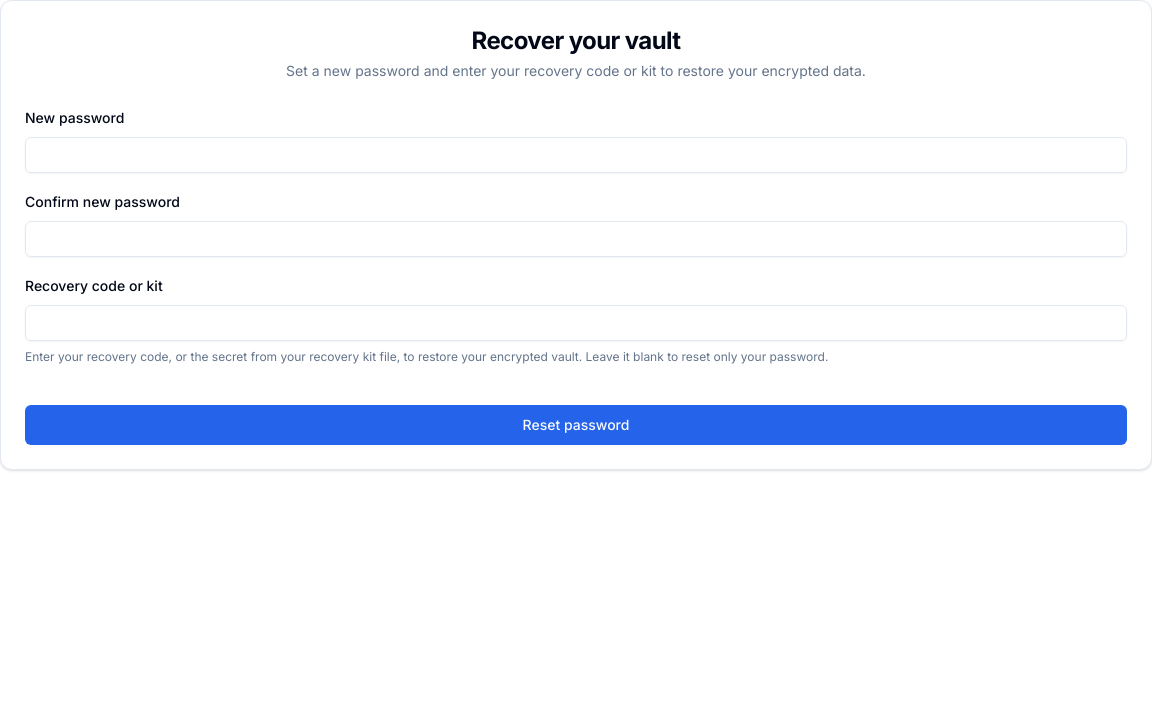
Test: the reset page with a passkey that opens the vault › changes nothing when the passkeys cannot be read
Type "NewPassword789!" into the password field labelled "New password" at (576, 155), box [25, 137, 1127, 173]
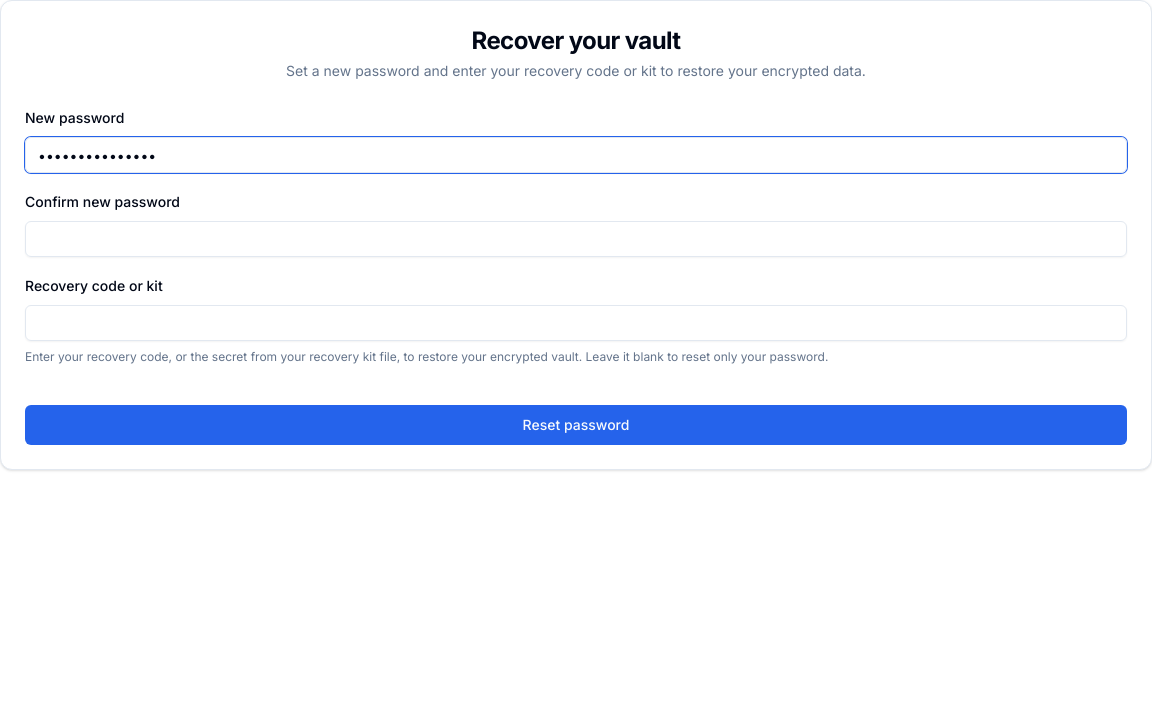
Type "NewPassword789!" into the password field labelled "Confirm new password" at (576, 239), box [25, 221, 1127, 257]
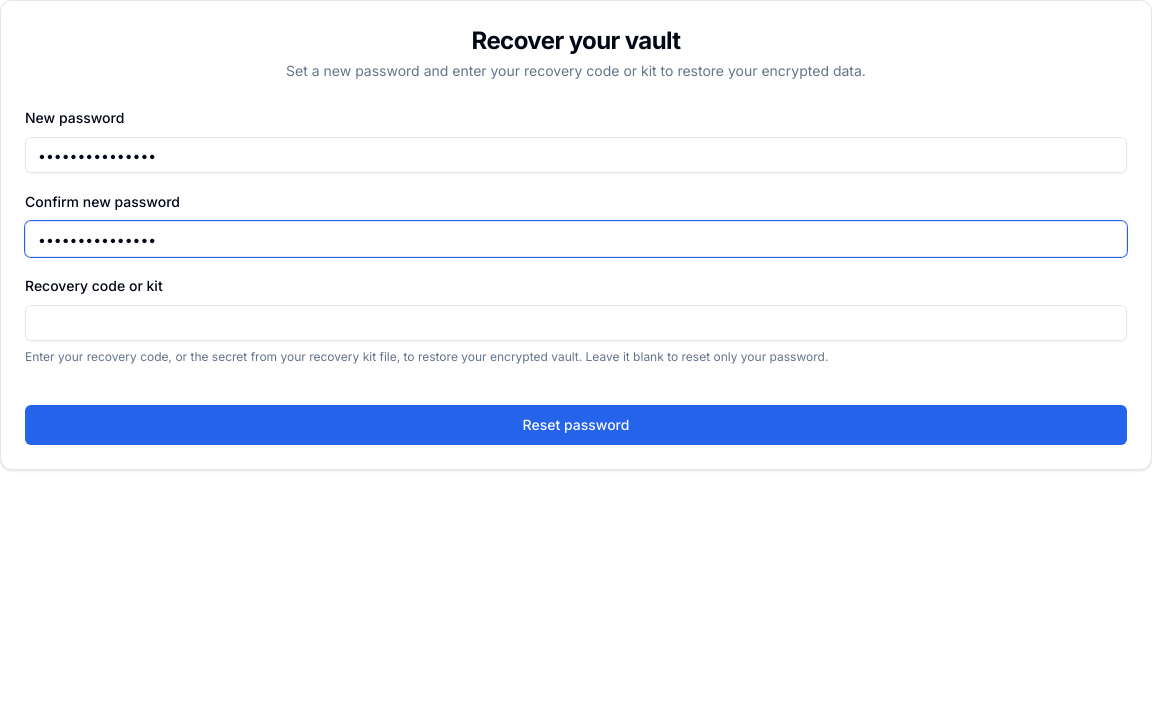
Click the button "Reset password" at (576, 425), box [25, 405, 1127, 445]
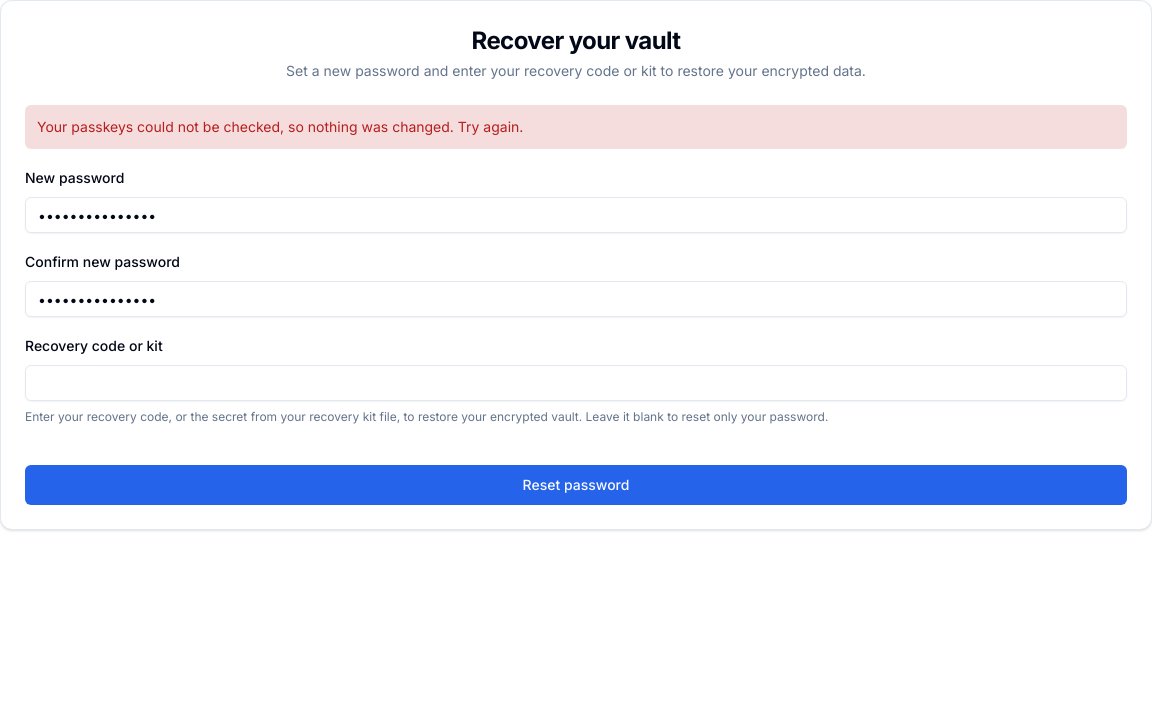
Check: the message shows "Your passkeys could not be checked", box [37, 118, 523, 135]
